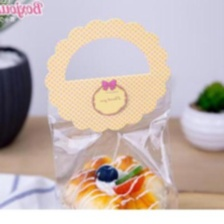snack: (39, 12, 186, 209)
